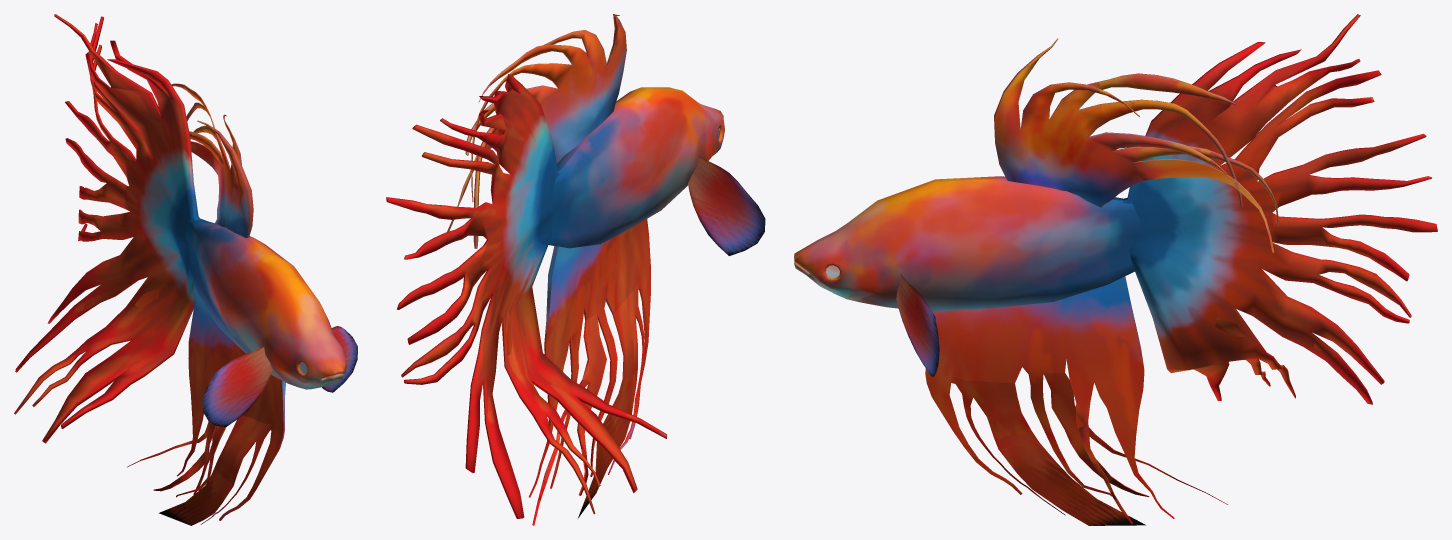
File: KoiFish.fbx
3 renders of one model, left to right at view 1: azimuth 30°, elevation 25°; view 2: azimuth 150°, elevation 25°; view 3: azimuth 270°, elevation 25°, orthographic. The views are drawn at different scales.
Visible parts, largest first — view 1: FishColorful; view 2: FishColorful; view 3: FishColorful.
Boxes of the visible parts, left/top/right/bottom form: FishColorful: left=14, top=14, right=357, bottom=525; FishColorful: left=386, top=14, right=765, bottom=525; FishColorful: left=794, top=14, right=1437, bottom=525.
Size of the model in its own units: 37.3 by 77.99 by 90.29.
1 material, 1 textured.
